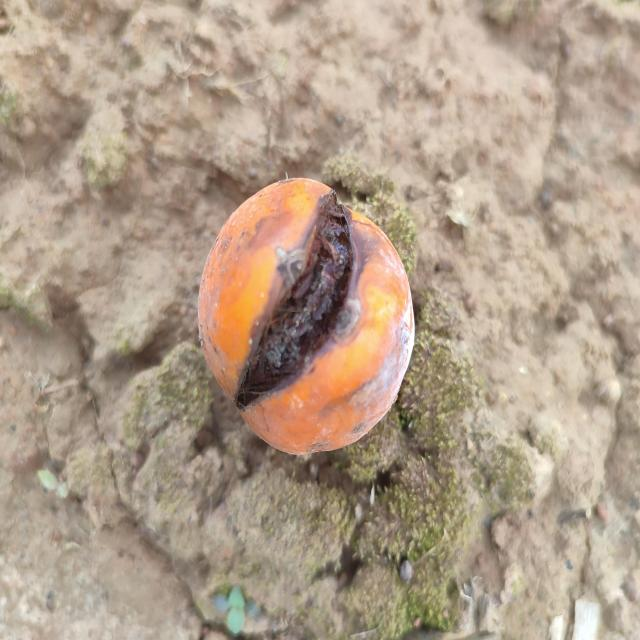damaged: (199, 178, 414, 454)
